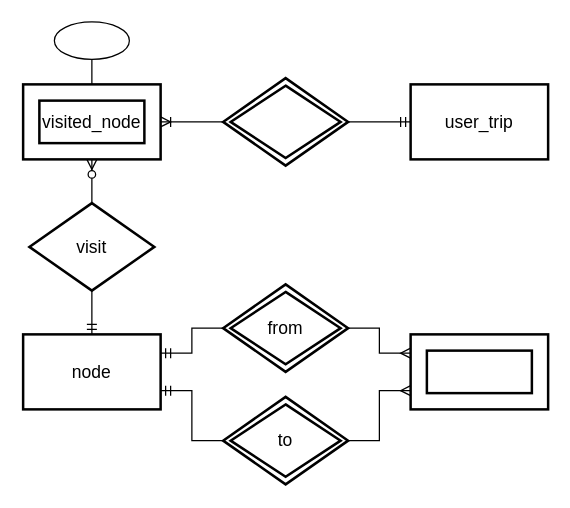
The diagram is 570 pixels wide and 508 high, and some of its shapes have lost their labels. The centre of each missing label's shape, as x and y in pixels:
"connection" goes at pixel 479 371.
"contains" goes at pixel 285 121.
"time" goes at pixel 91 40.
